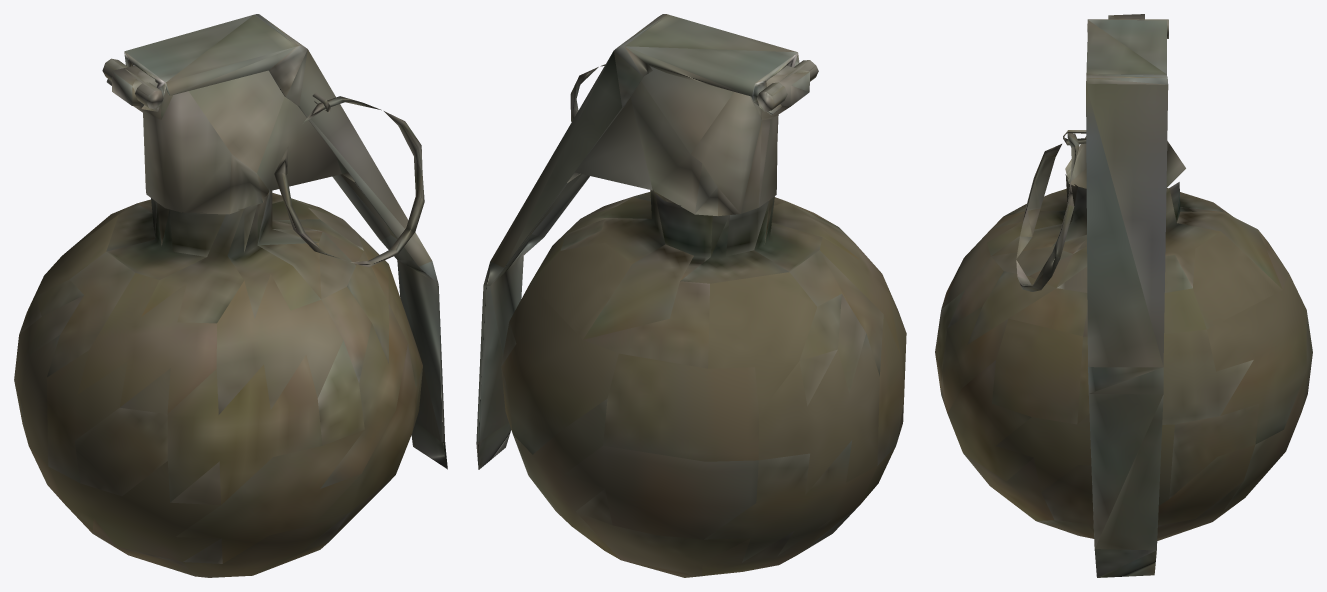
Rendered from grenade.glb.
The picture shows the model from 3 angles, left to right: view 1: azimuth 30°, elevation 25°; view 2: azimuth 150°, elevation 25°; view 3: azimuth 270°, elevation 25°; orthographic projection. The views are drawn at different scales.
Visible parts, largest first — view 1: Object_6; view 2: Object_6; view 3: Object_6.
Boxes of the visible parts, x1,y1,x2,y2 form: Object_6: [14, 14, 447, 577]; Object_6: [476, 14, 906, 577]; Object_6: [935, 14, 1312, 577].
Bounding box in the file's own units: 0.1018 × 0.13 × 0.0927.
Materials: 1 (1 with a texture image).
